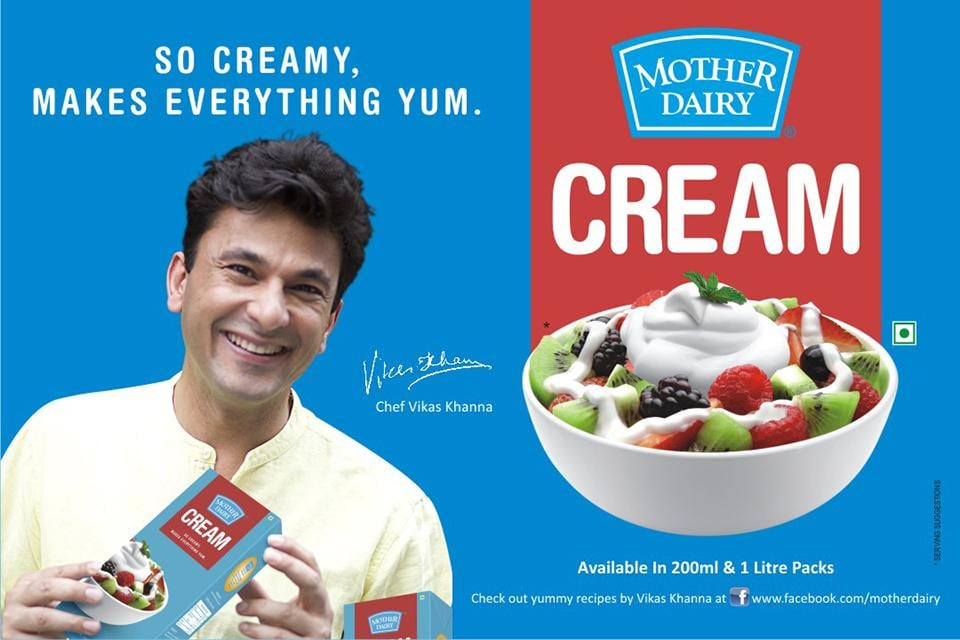Mother_Dairy: (601, 20, 818, 160), (201, 487, 251, 532), (358, 604, 415, 639)
